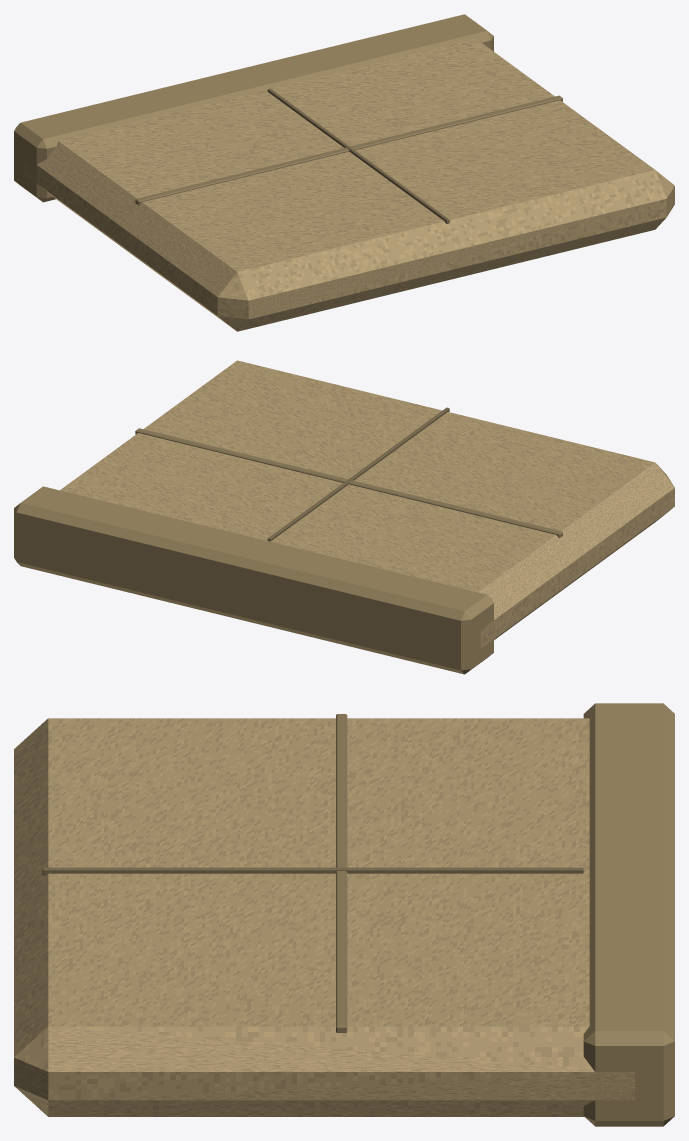
File: shorts.glb
3 views of the same model, one above another, from view 1: azimuth 30°, elevation 25°; view 2: azimuth 150°, elevation 25°; view 3: azimuth 270°, elevation 25° (orthographic). The views are drawn at different scales.
Visible parts, largest first — view 1: block_body, block_waist, block_fold, block_seam; view 2: block_body, block_waist, block_fold, block_seam; view 3: block_body, block_waist, block_fold, block_seam.
Boxes of the visible parts, x1=… form: block_body: x1=23, y1=39, x2=674, y2=331; block_waist: x1=14, y1=14, x2=493, y2=202; block_fold: x1=135, y1=95, x2=562, y2=205; block_seam: x1=267, y1=88, x2=449, y2=223; block_body: x1=60, y1=360, x2=674, y2=648; block_waist: x1=14, y1=486, x2=493, y2=674; block_fold: x1=135, y1=428, x2=562, y2=538; block_seam: x1=267, y1=407, x2=449, y2=541; block_body: x1=14, y1=718, x2=634, y2=1116; block_waist: x1=583, y1=703, x2=674, y2=1126; block_fold: x1=336, y1=714, x2=347, y2=1032; block_seam: x1=42, y1=867, x2=583, y2=875.
Size of the model in its own units: 0.28 by 0.037 by 0.232.
1 material, 1 textured.
